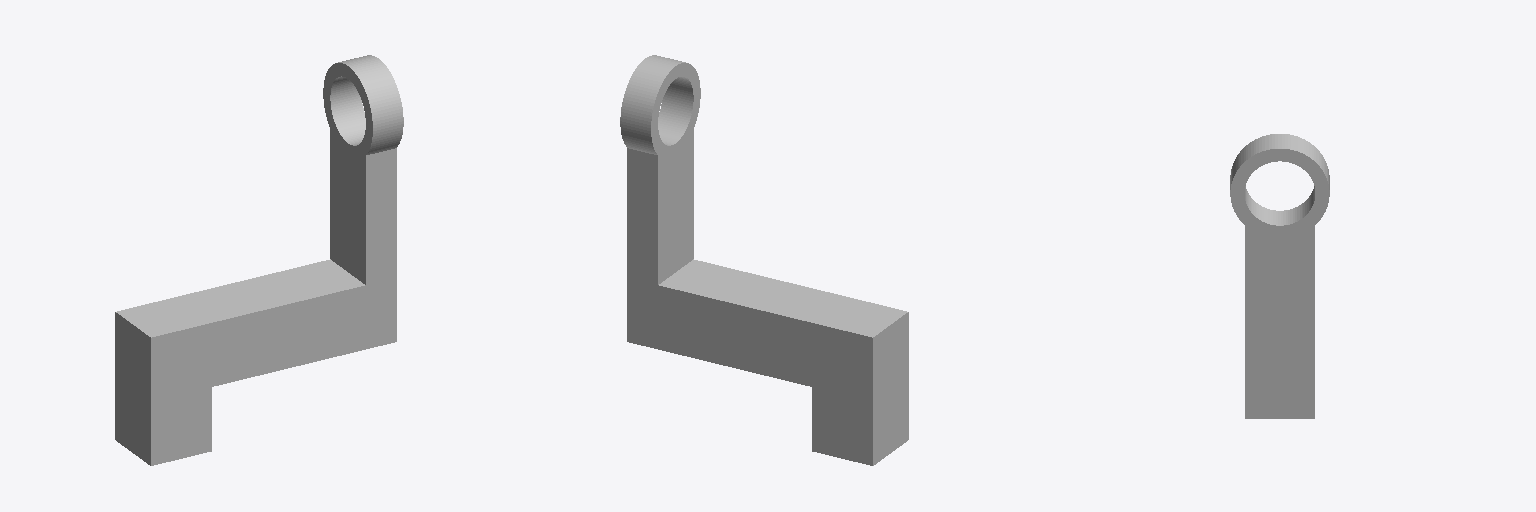
File: InchwormLeg.obj
3 views of the same model, side by side, from view 1: azimuth 30°, elevation 25°; view 2: azimuth 150°, elevation 25°; view 3: azimuth 270°, elevation 25° (orthographic).
Parts seen in each view (by area): view 1: Inchworm_Leg_Inchworm_Leg.002; view 2: Inchworm_Leg_Inchworm_Leg.002; view 3: Inchworm_Leg_Inchworm_Leg.002.
Boxes of the visible parts, <box> form: Inchworm_Leg_Inchworm_Leg.002: <box>115,55,403,465</box>; Inchworm_Leg_Inchworm_Leg.002: <box>620,55,908,465</box>; Inchworm_Leg_Inchworm_Leg.002: <box>1230,134,1329,418</box>.
Bounding box in the file's own units: 0.0508 × 0.0661 × 0.0178.